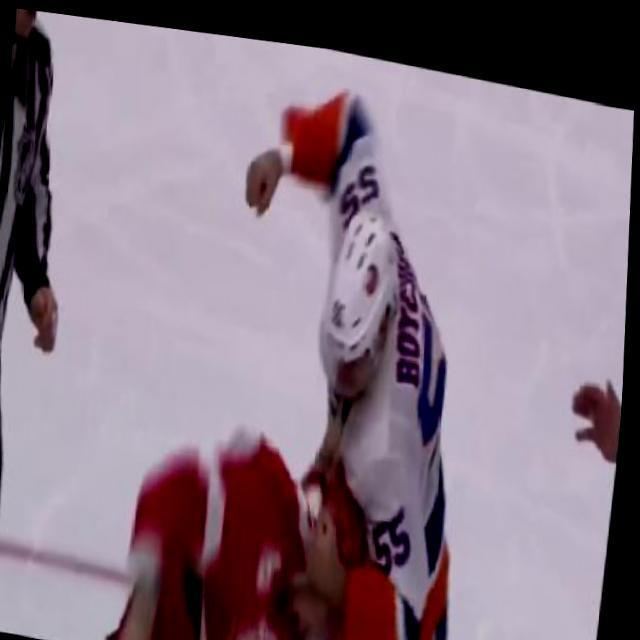fight: (95, 35, 519, 640)
